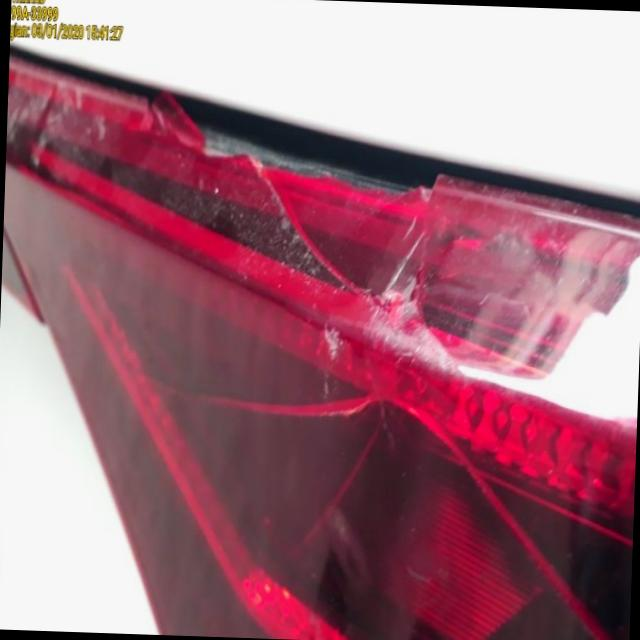Phare abime: (132, 64, 444, 343)
